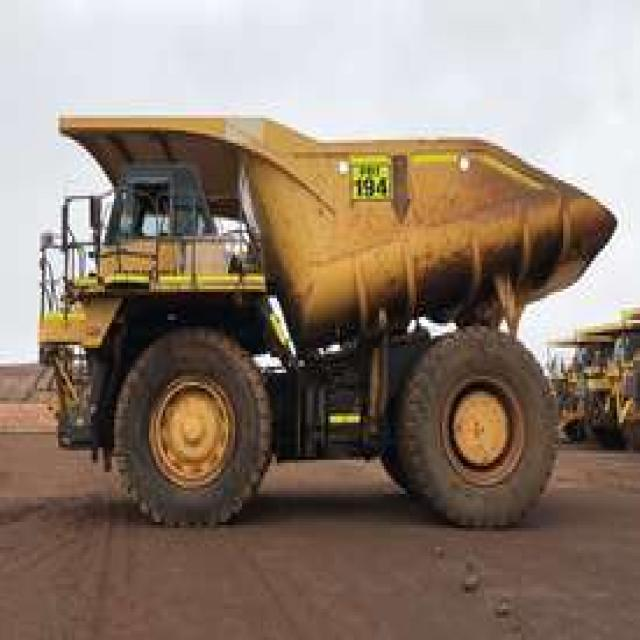dump_truck: (35, 102, 614, 540)
